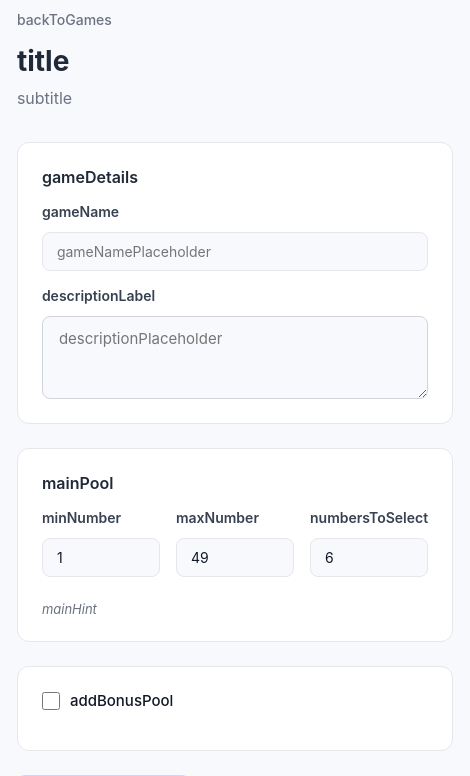
Test: CreateGamePage › should show success screen after successful submission
Step 1. Type "My Lottery" into the field labelled "gameName" → (235, 252), box 42,232 -> 428,271
(page scrolled)
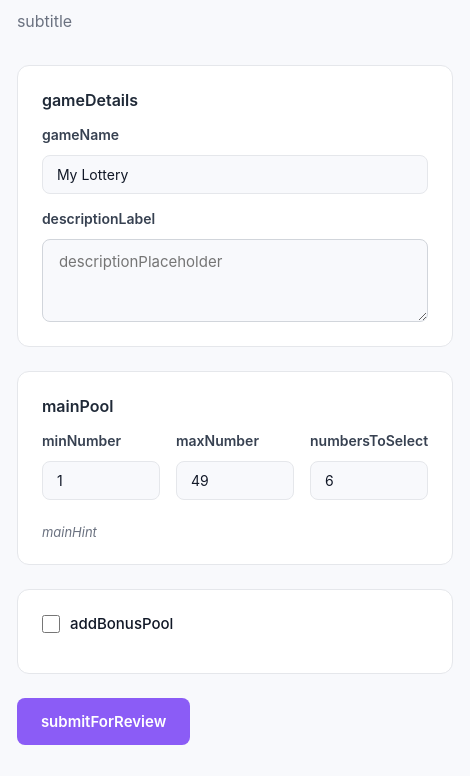
Step 2. Click the button "submitForReview" → (104, 722), box 17,698 -> 190,745
(page scrolled)
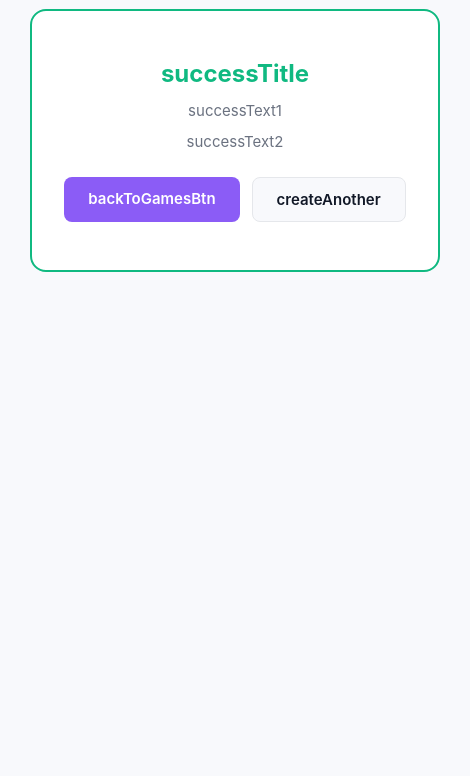
Now the heading "successTitle" is shown, box 161,59 -> 309,88
Now the text "successText1" is shown, box 188,101 -> 282,120
